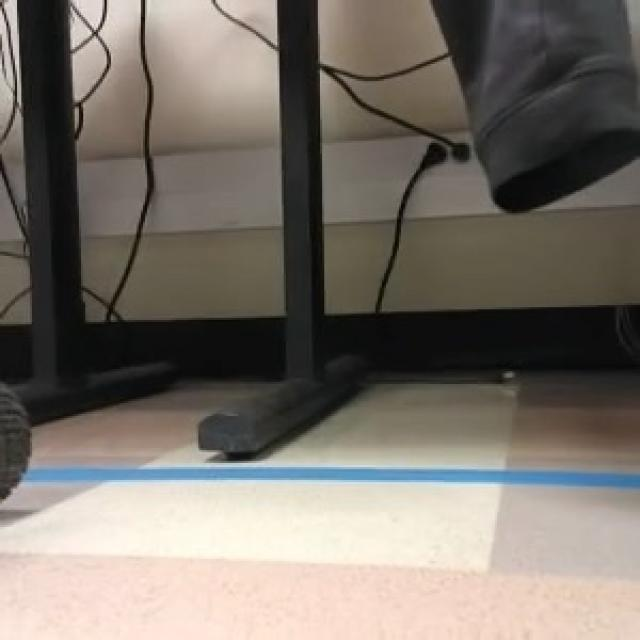obstacle: (0, 382, 45, 504)
